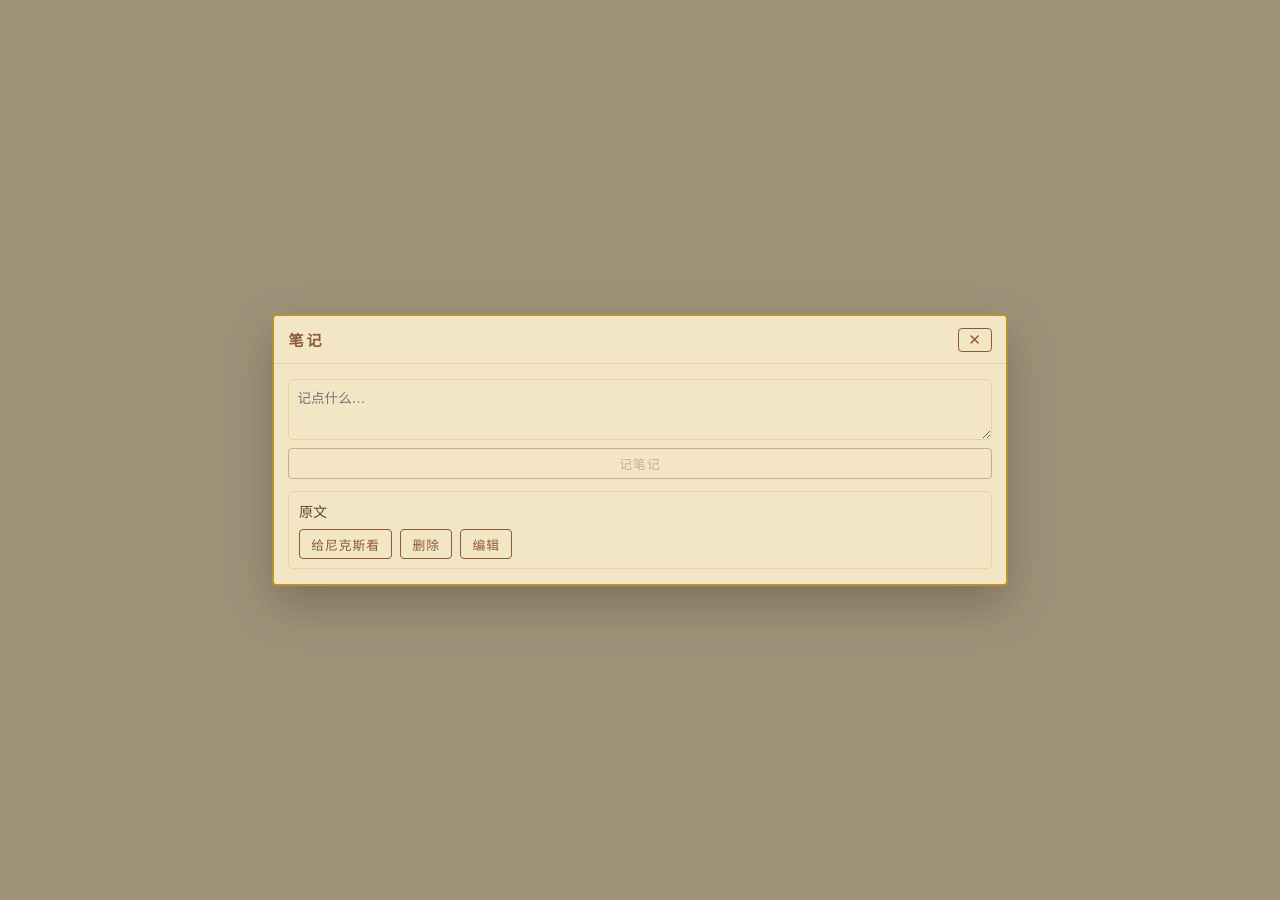
NotePanel 笔记面板 › 点「编辑」进入编辑态，保存 → updateNote(trim 后内容) + 退出编辑态
Click the button "编辑" at (486, 544), box [460,529,512,560]
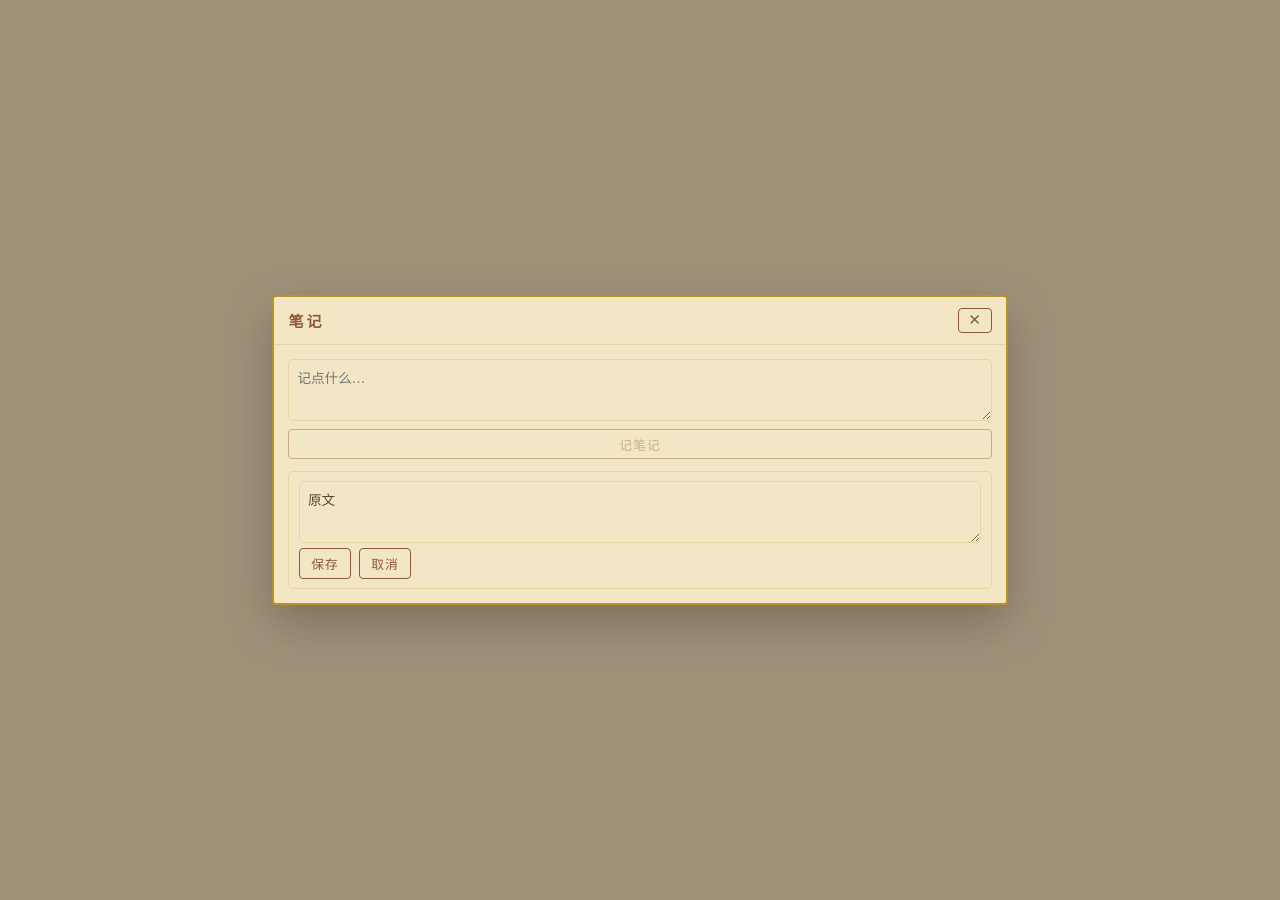
Check: the text box named "编辑笔记" holds "原文"
Replace the text in the text box named "编辑笔记" with "  改后  " at (640, 512), box [299,481,981,543]
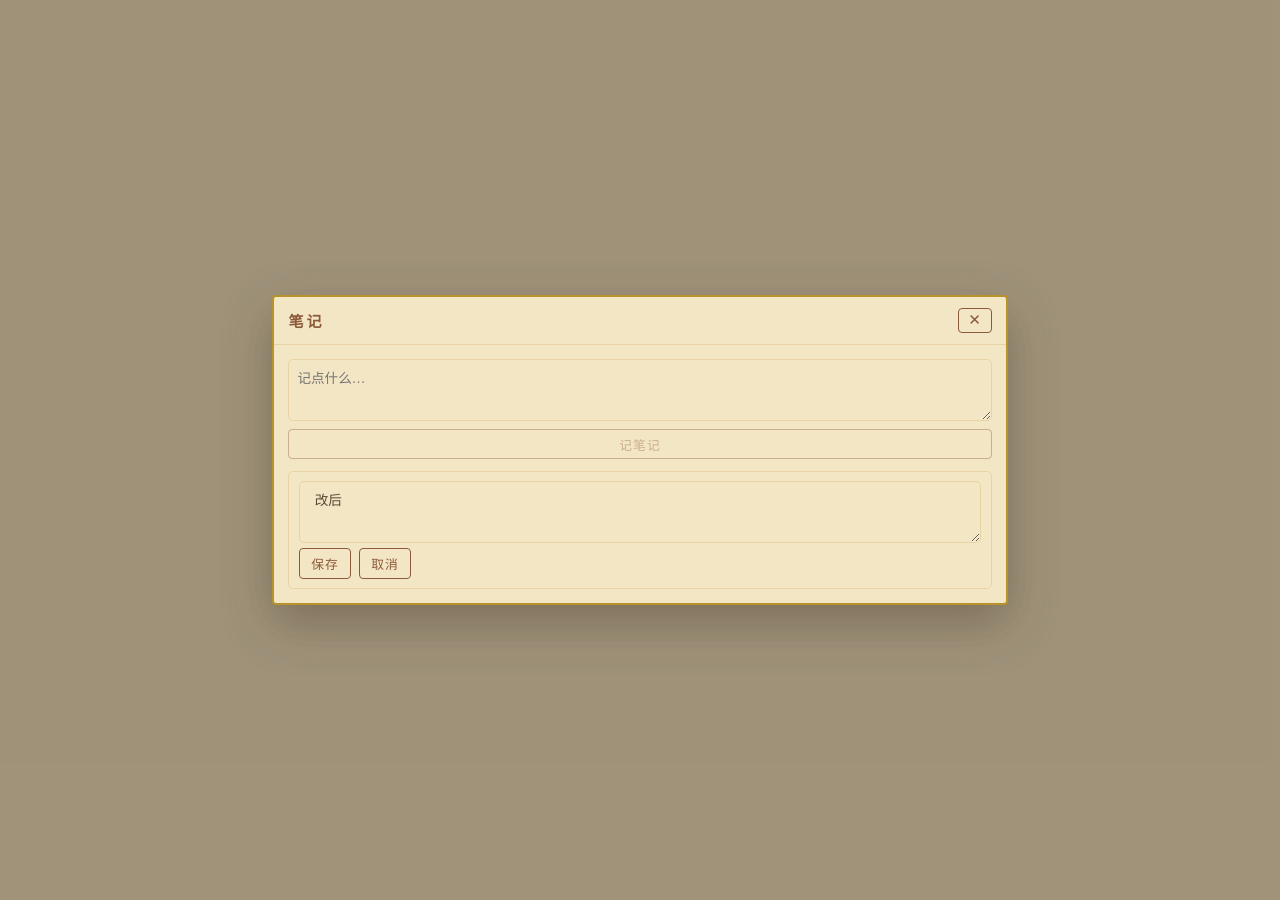
Click the button "保存" at (325, 564), box [299,548,351,579]
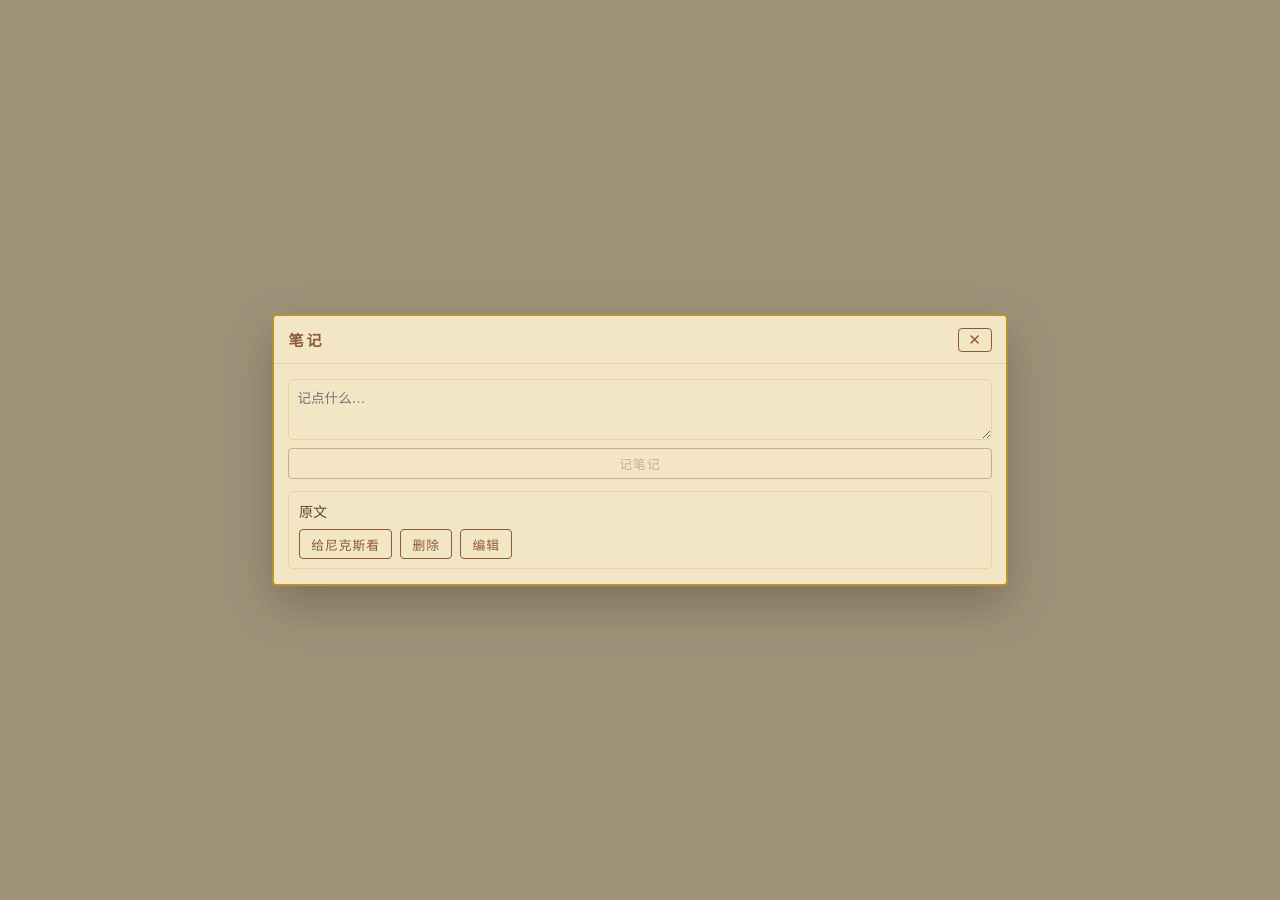
Check: the button "编辑" is shown, box [460,529,512,560]
